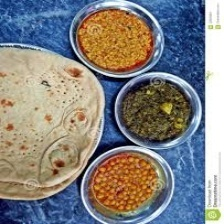roti: (0, 46, 106, 201)
